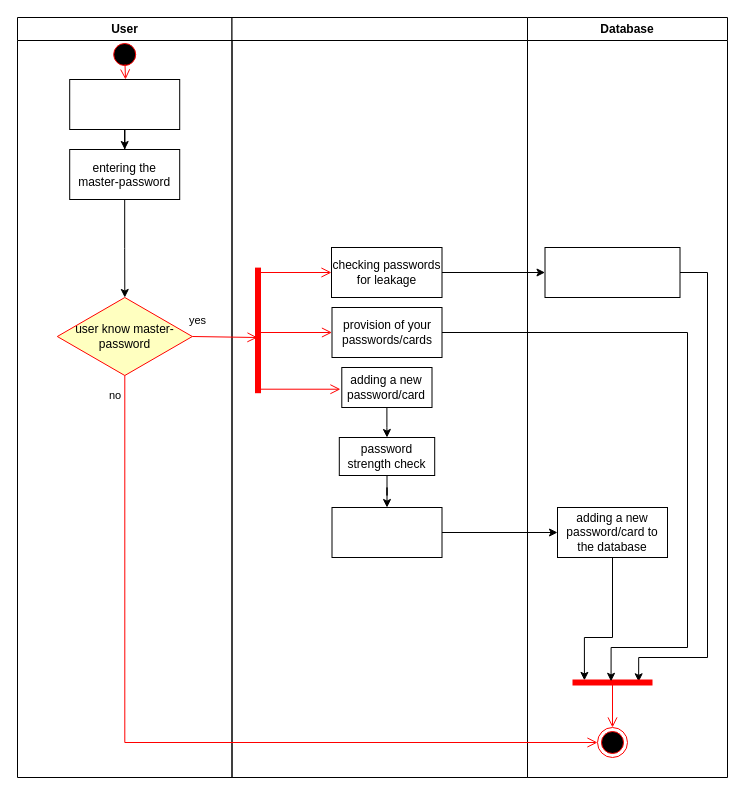
Some shapes in this 745 by 795 pixel diagram are drawn without their labels. The box of each missing label's shape, as (x1, y1, x2, y2) in pixels:
App: (231, 16, 528, 778)
checking the password for leakage in the database: (544, 246, 680, 298)
data encryption: (331, 506, 442, 558)
opening application: (69, 78, 180, 130)
